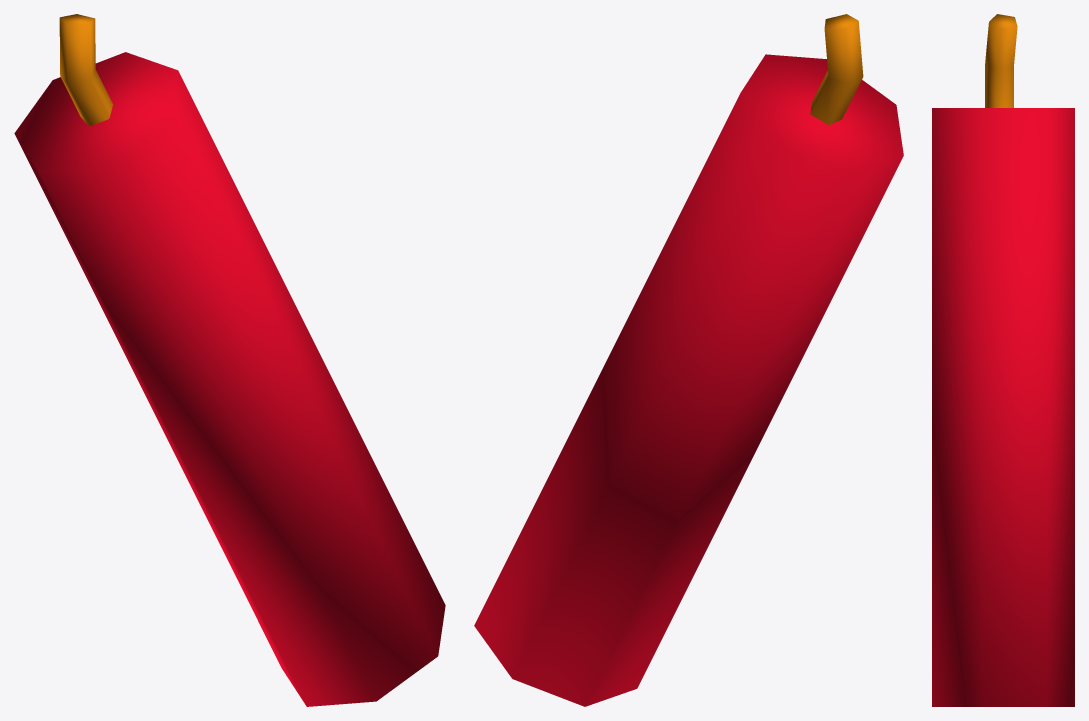
File: DYNAMITE.fbx
The picture shows the model from 3 angles, left to right: view 1: azimuth 30°, elevation 25°; view 2: azimuth 150°, elevation 25°; view 3: azimuth 270°, elevation 25°; orthographic projection. The views are drawn at different scales.
Visible parts, largest first — view 1: DYNAMITE; view 2: DYNAMITE; view 3: DYNAMITE.
Boxes of the visible parts, x1=… form: DYNAMITE: x1=14, y1=14, x2=445, y2=706; DYNAMITE: x1=474, y1=14, x2=903, y2=706; DYNAMITE: x1=932, y1=14, x2=1074, y2=706.
Size of the model in its own units: 40.88 by 70.5 by 15.19.
